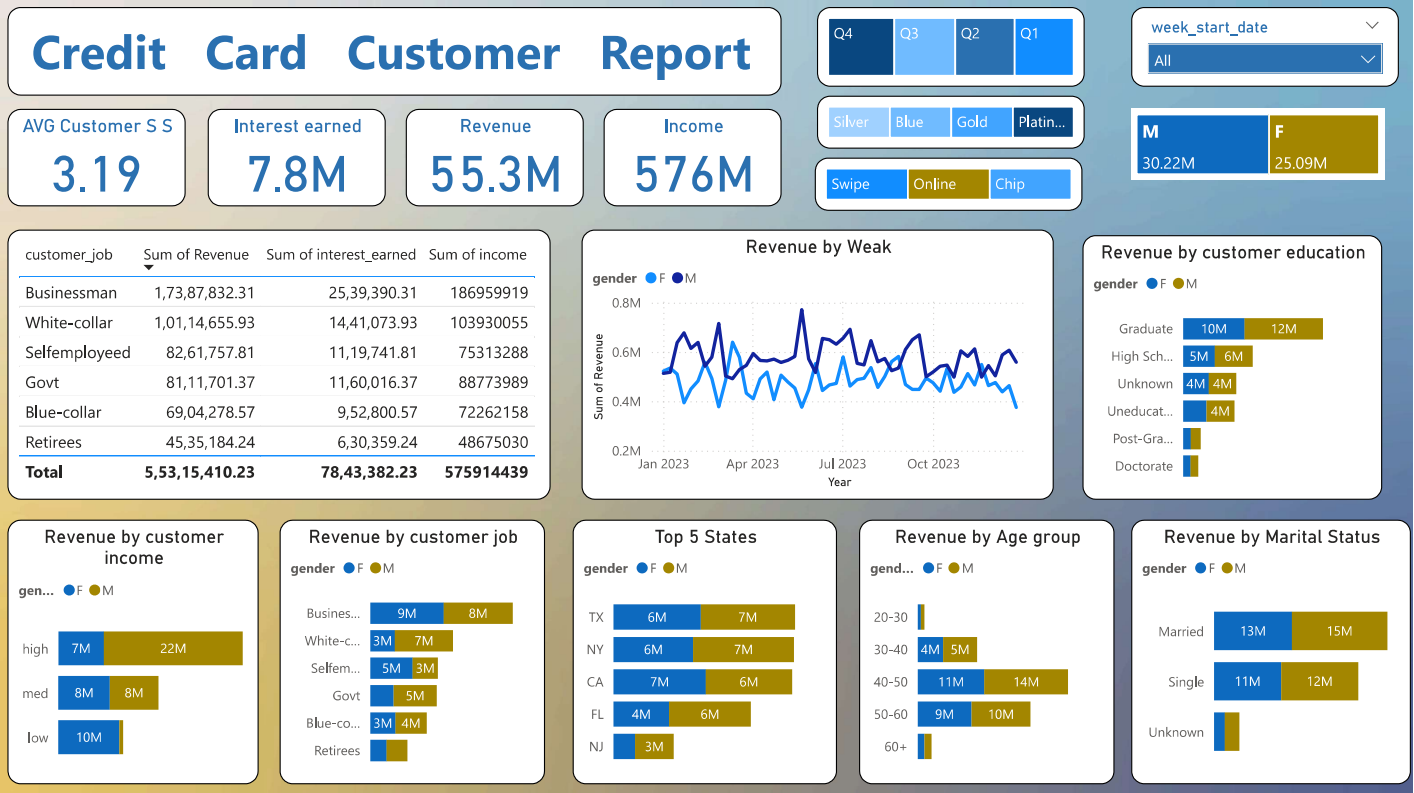

The page's visual inventory and layout, read from the dashboard file:
{"tool":"powerbi","page":{"name":"CC Customer ","canvas":[1280,720],"ordinal":2},"visuals":[{"type":"textbox","box":[10,8.3,700.3,79.7],"z":0},{"type":"barChart","title":"Revenue by customer income","fields":{"Y":["Sum(public cc_detail.Revenue)"],"Category":["public cust_detail.IncomeGroup"],"Series":["public cust_detail.gender"]},"box":[10,471.3,227.3,239],"z":1000},{"type":"tableEx","fields":{"Values":["public cust_detail.customer_job","Sum(public cc_detail.Revenue)","Sum(public cc_detail.interest_earned)","Sum(public cust_detail.income)"]},"box":[10,209.1,491.2,243.9],"z":2000},{"type":"card","title":"Revenue","fields":{"Values":["Sum(public cc_detail.Revenue)"]},"box":[370.1,99.6,161,88],"z":3000},{"type":"card","title":"Income","fields":{"Values":["Sum(public cust_detail.income)"]},"box":[549.3,99.6,161,88],"z":4000},{"type":"card","title":"Interest earned","fields":{"Values":["Sum(public cc_detail.interest_earned)"]},"box":[190.8,99.6,161,88],"z":5000},{"type":"card","title":"AVG Customer S S","fields":{"Values":["Avg(public cust_detail.cust_satisfaction_score)"]},"box":[10,99.6,161,88],"z":6000},{"type":"slicer","fields":{"Values":["public cc_detail.week_start_date"]},"box":[1025.6,8.3,242.3,71.4],"z":7000},{"type":"treemap","fields":{"Group":["public cc_detail.qtr"],"Values":["Avg(public cc_detail.client_num)"]},"box":[741.8,8.3,242.3,71.4],"z":8000},{"type":"treemap","fields":{"Group":["public cc_detail.card_category"],"Values":["Avg(public cc_detail.client_num)"]},"box":[741.8,88,242.3,48.1],"z":10000},{"type":"lineChart","title":"Revenue by Weak","fields":{"Y":["Sum(public cc_detail.Revenue)"],"Series":["public cust_detail.gender"],"Category":["public cc_detail.week_start_date.Variation.Date Hierarchy.Year","public cc_detail.week_start_date.Variation.Date Hierarchy.Quarter","public cc_detail.week_start_date.Variation.Date Hierarchy.Month","public cc_detail.week_start_date.Variation.Date Hierarchy.Day"]},"box":[529.4,209.1,426.5,243.9],"z":12000},{"type":"treemap","fields":{"Group":["public cust_detail.gender"],"Values":["Sum(public cc_detail.Revenue)"]},"box":[1025.6,99.6,229,64.7],"z":12001},{"type":"barChart","title":"Revenue by Age  group","fields":{"Y":["Sum(public cc_detail.Revenue)"],"Category":["public cust_detail.AgeGroup"],"Series":["public cust_detail.gender"]},"box":[780,471.3,230.7,239],"z":12003},{"type":"barChart","title":"Revenue by customer job","fields":{"Y":["Sum(public cc_detail.Revenue)"],"Category":["public cust_detail.customer_job"],"Series":["public cust_detail.gender"]},"box":[255.6,471.3,240.6,239],"z":12004},{"type":"barChart","title":"Revenue by customer education","fields":{"Y":["Sum(public cc_detail.Revenue)"],"Category":["public cust_detail.education_level"],"Series":["public cust_detail.gender"]},"box":[982.4,214.1,270.5,239],"z":12005},{"type":"barChart","title":"Top 5 States","fields":{"Y":["Sum(public cc_detail.Revenue)"],"Category":["public cust_detail.state_cd"],"Series":["public cust_detail.gender"]},"box":[521.1,471.3,239,239],"z":12006},{"type":"barChart","title":"Revenue by Marital Status   ","fields":{"Y":["Sum(public cc_detail.Revenue)"],"Category":["public cust_detail.marital_status"],"Series":["public cust_detail.gender"]},"box":[1025.6,471.3,253.9,239],"z":12007},{"type":"treemap","fields":{"Group":["public cc_detail.use_chip"],"Values":["Avg(public cc_detail.client_num)"]},"box":[740.1,144.4,242.3,48.1],"z":12008}]}

Visuals, with their boxes in screenshot pixels (x1, y1, x2, y2), scaled from the page's 1280x720 canvas onto the 1414x793 screenshot:
textbox: bbox=[11, 9, 785, 97]
"Revenue by customer income" barChart: bbox=[11, 519, 262, 782]
tableEx - public cust_detail.customer_job x Sum(public cc_detail.Revenue): bbox=[11, 230, 554, 499]
"Revenue" card: bbox=[409, 110, 587, 207]
"Income" card: bbox=[607, 110, 785, 207]
"Interest earned" card: bbox=[211, 110, 389, 207]
"AVG Customer S S" card: bbox=[11, 110, 189, 207]
slicer - public cc_detail.week_start_date: bbox=[1133, 9, 1401, 88]
treemap - public cc_detail.qtr x Avg(public cc_detail.client_num): bbox=[819, 9, 1087, 88]
treemap - public cc_detail.card_category x Avg(public cc_detail.client_num): bbox=[819, 97, 1087, 150]
"Revenue by Weak" lineChart: bbox=[585, 230, 1056, 499]
treemap - public cust_detail.gender x Sum(public cc_detail.Revenue): bbox=[1133, 110, 1386, 181]
"Revenue by Age  group" barChart: bbox=[862, 519, 1117, 782]
"Revenue by customer job" barChart: bbox=[282, 519, 548, 782]
"Revenue by customer education" barChart: bbox=[1085, 236, 1384, 499]
"Top 5 States" barChart: bbox=[576, 519, 840, 782]
"Revenue by Marital Status   " barChart: bbox=[1133, 519, 1413, 782]
treemap - public cc_detail.use_chip x Avg(public cc_detail.client_num): bbox=[818, 159, 1085, 212]
